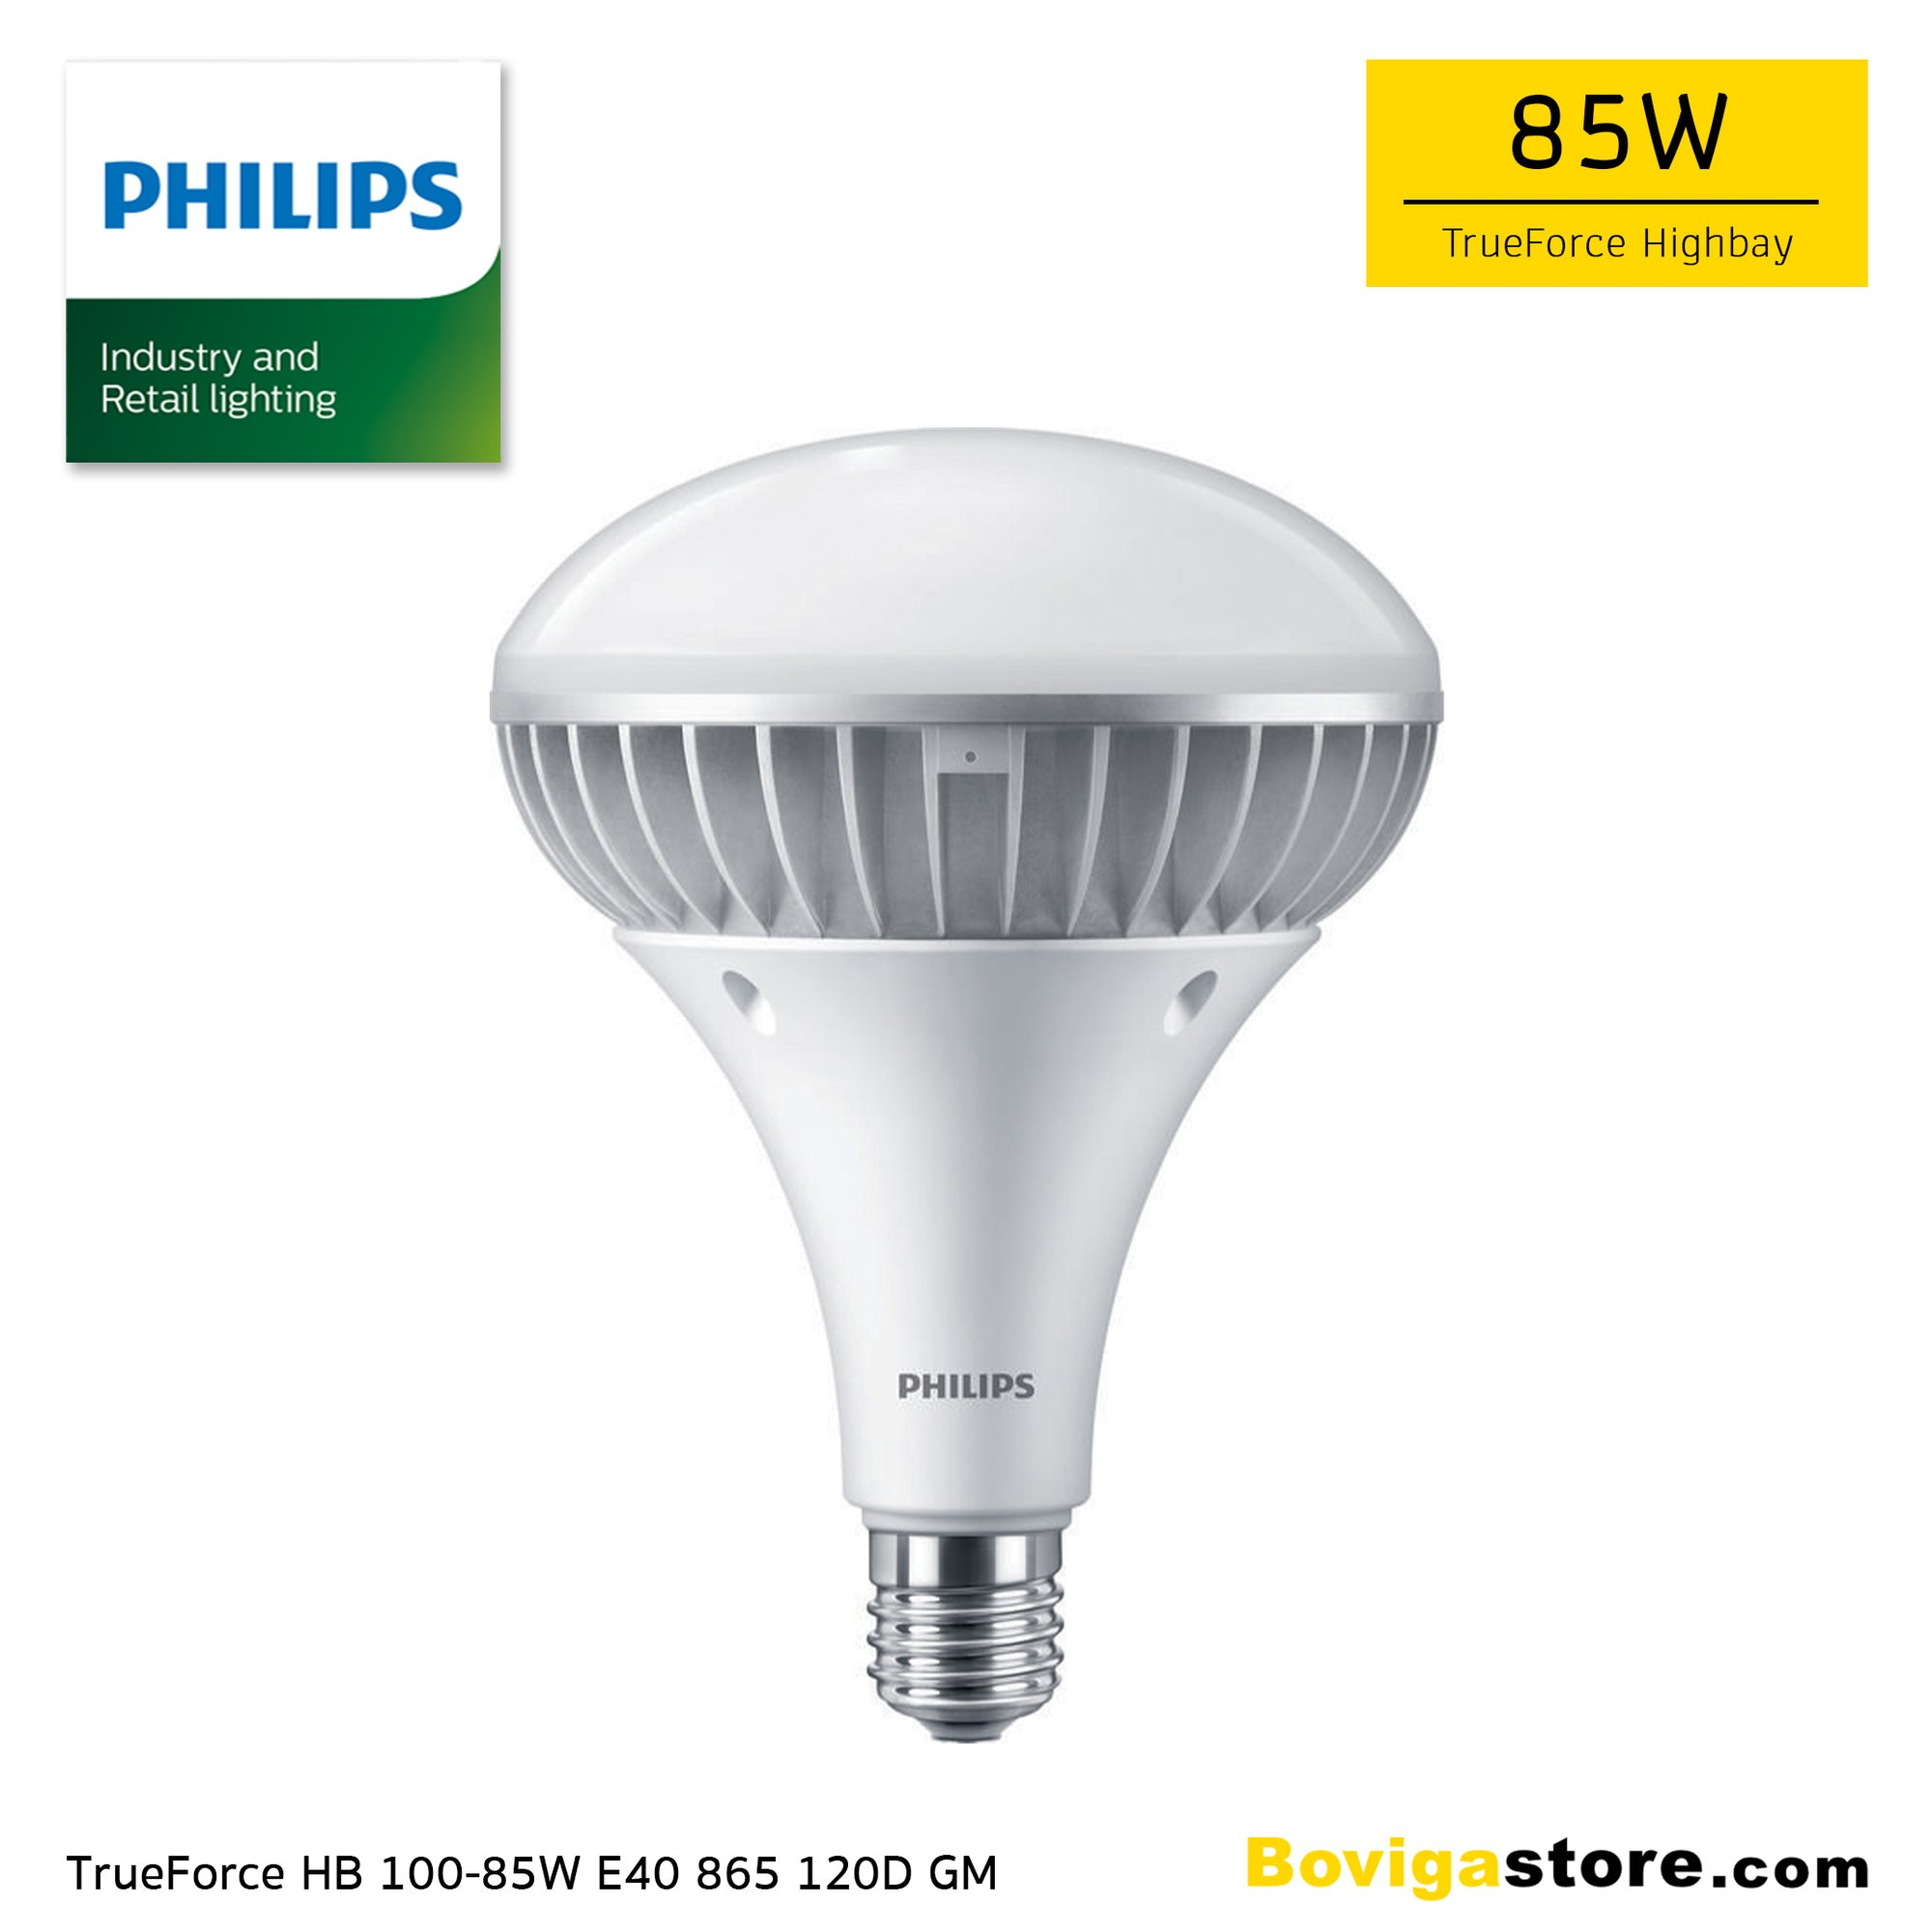Light_bulb: (471, 409, 1449, 1762)
